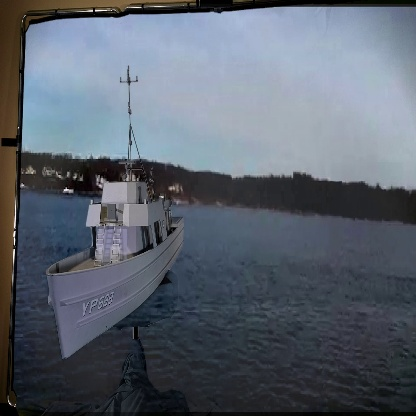YP689: (46, 63, 178, 362)
